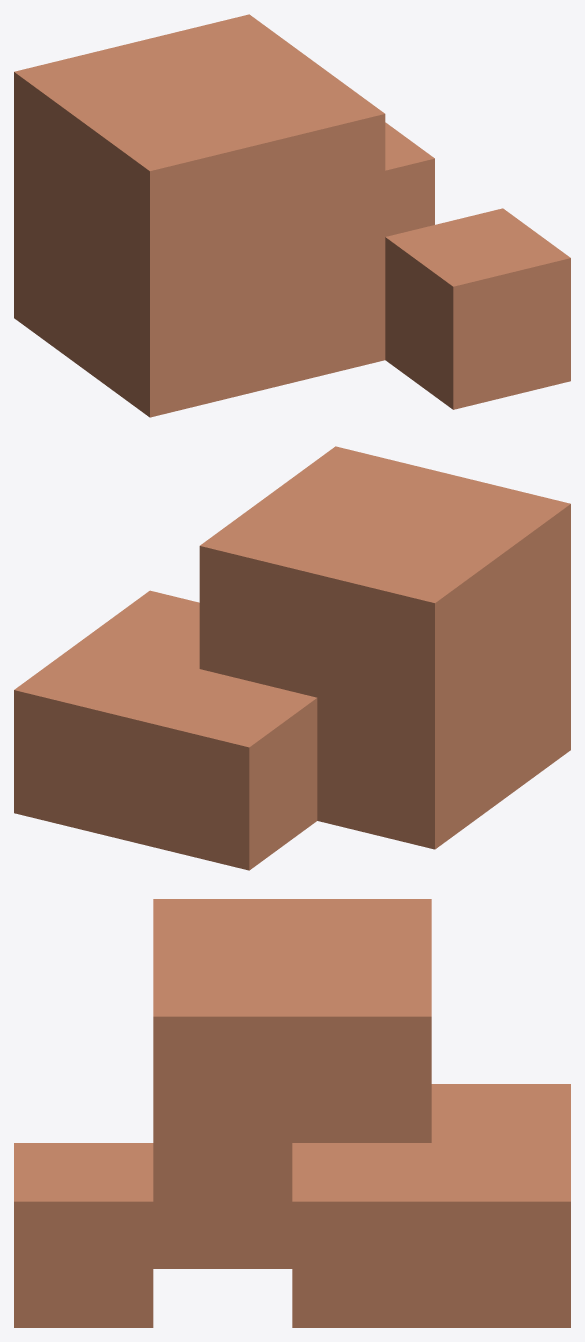
Rendered from cultivated_2.obj.
3 views of the same model, one above another, from view 1: azimuth 30°, elevation 25°; view 2: azimuth 150°, elevation 25°; view 3: azimuth 270°, elevation 25° (orthographic). The views are drawn at different scales.
Bounding box in the file's own units: 0.6 × 0.4 × 0.8.
